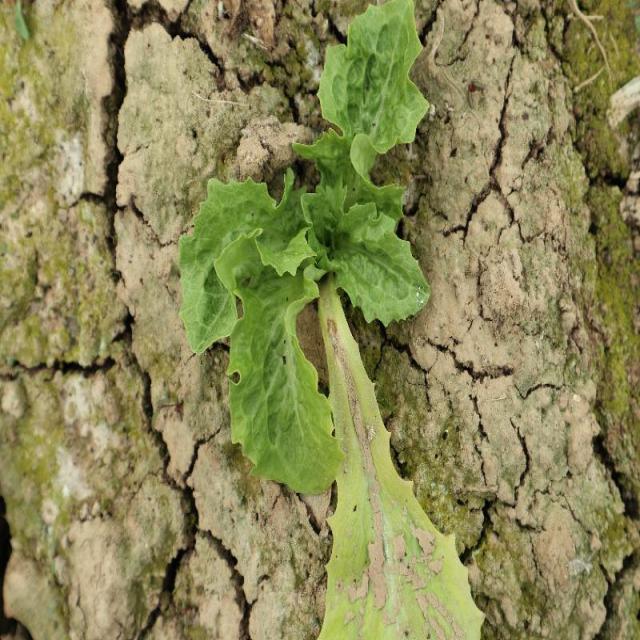crop: (175, 0, 488, 640)
